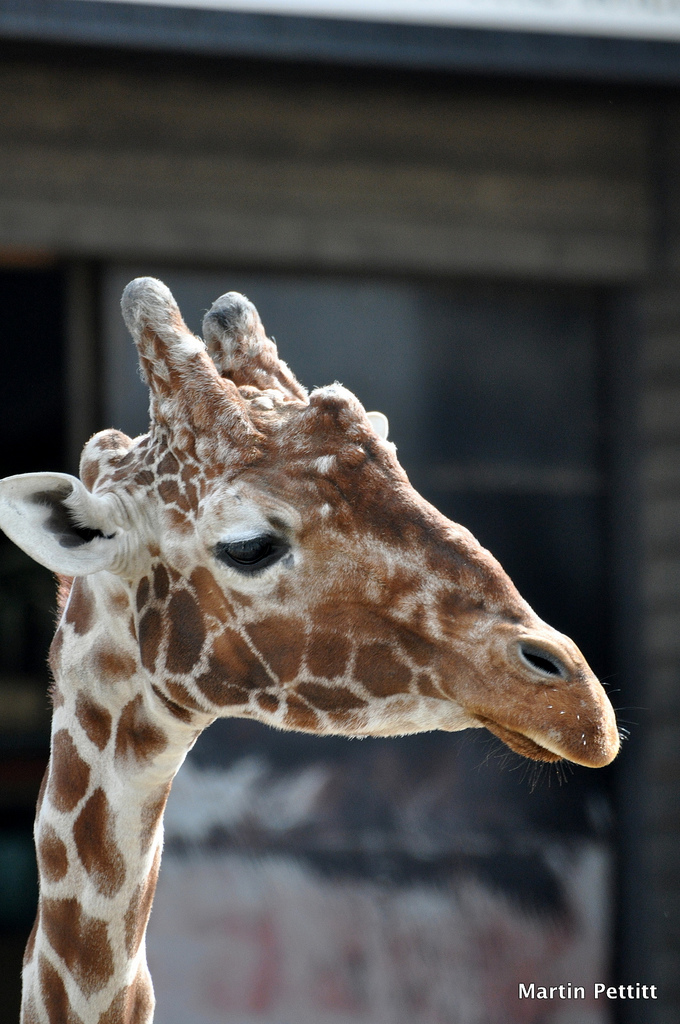giraffe: (28, 254, 617, 961)
